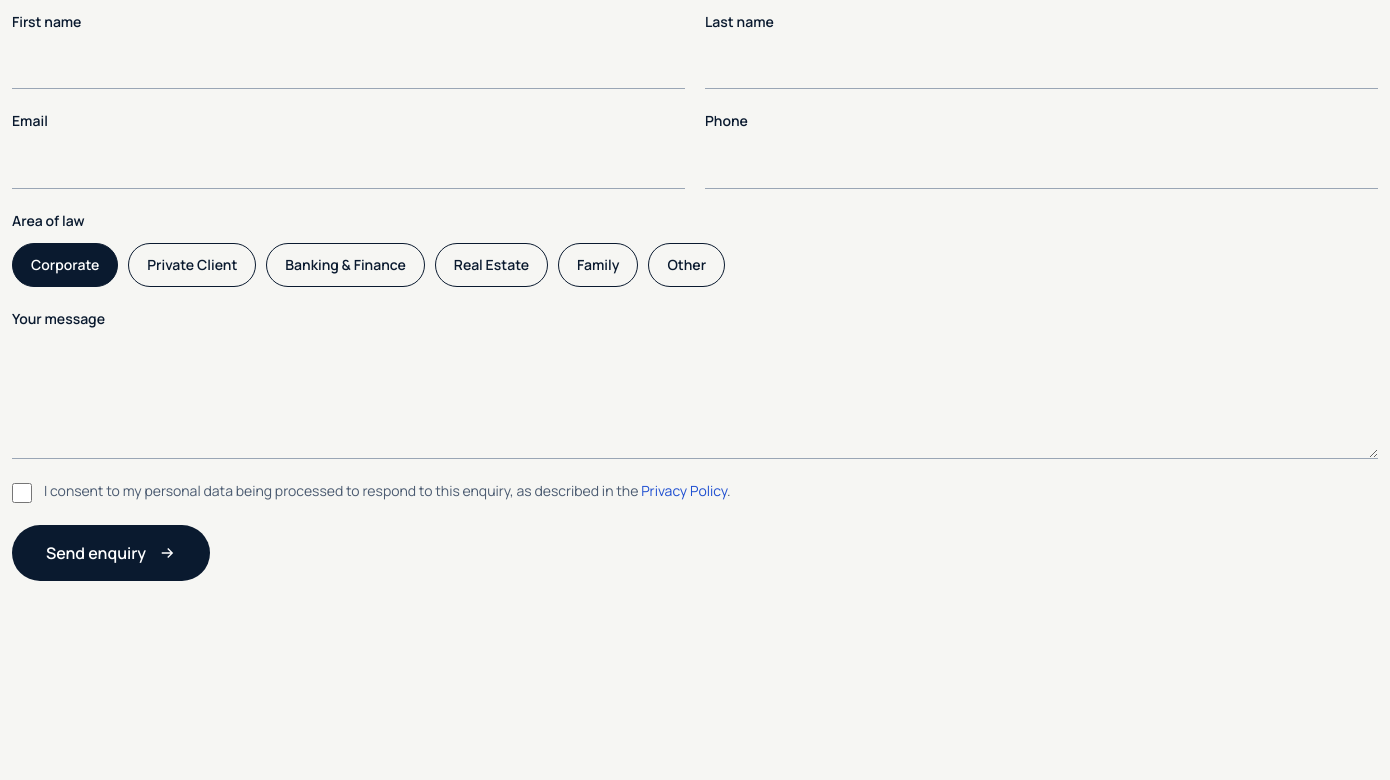
it: ContactForm › submits a valid enquiry and shows the success state
The image size is (1390, 780).
Type "Sofia" into the field labelled "First name" at (348, 65), box [12,40,685,89]
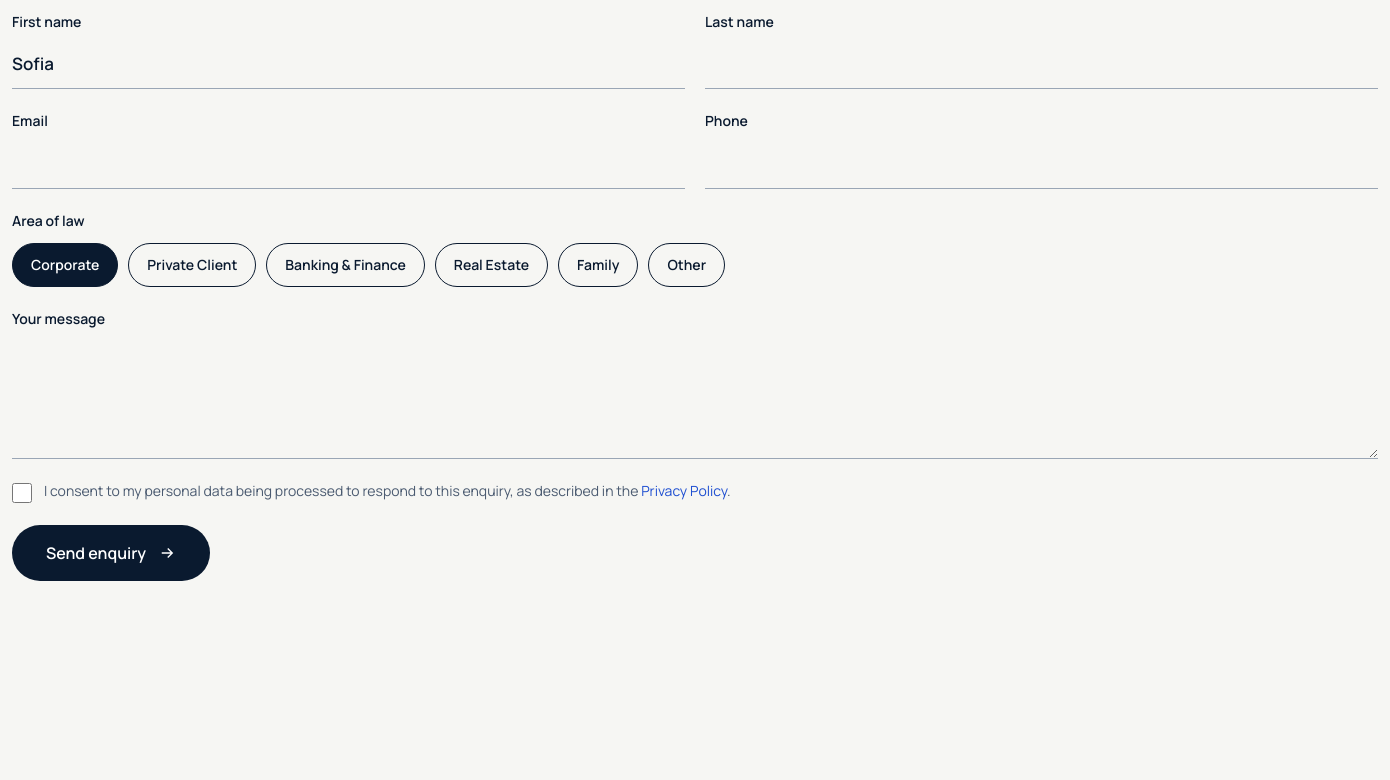
Type "Polykarpou" into the field labelled "Last name" at (1042, 65), box [705,40,1378,89]
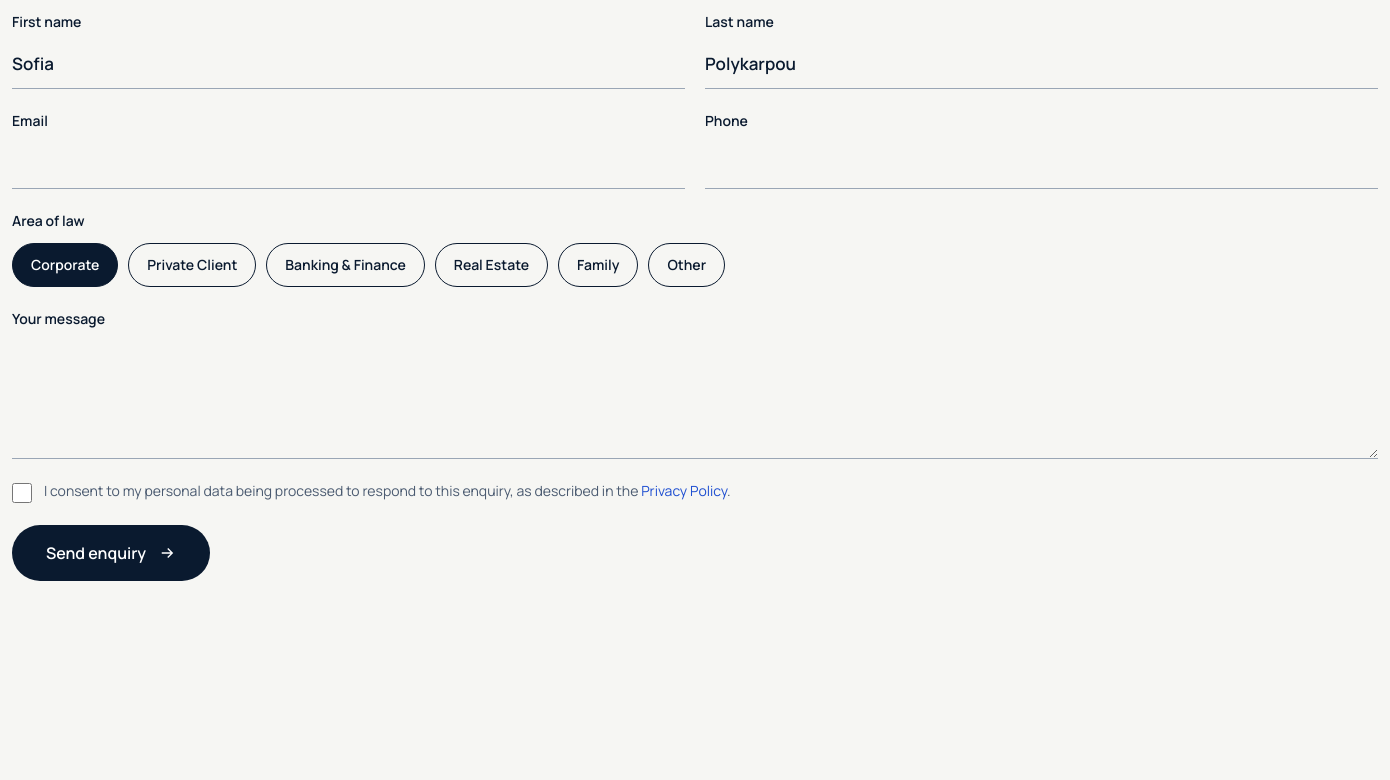
Type "sofia@example.com" into the field labelled "Email" at (348, 164), box [12,139,685,189]
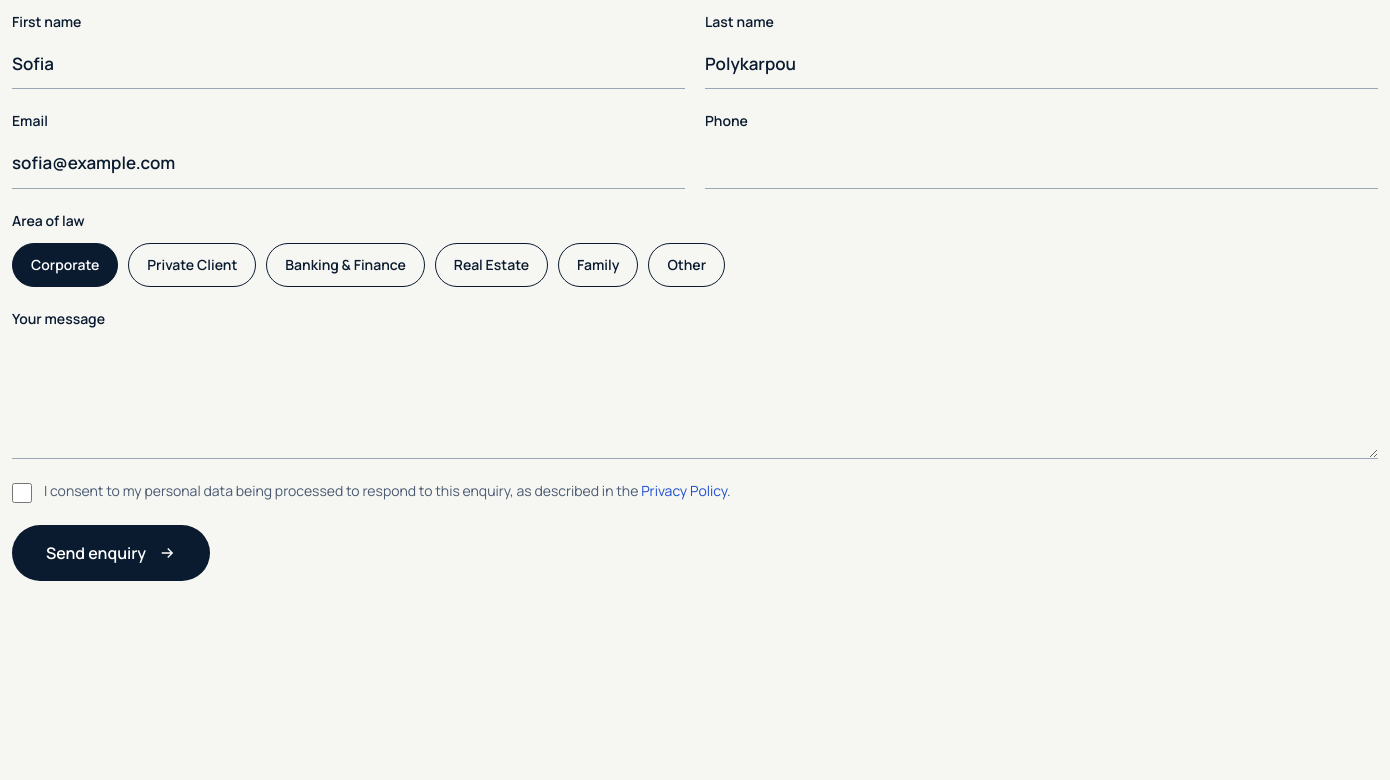
Type "Please advise on a company." into the text box labelled "Your message" at (695, 398), box [12,337,1378,459]
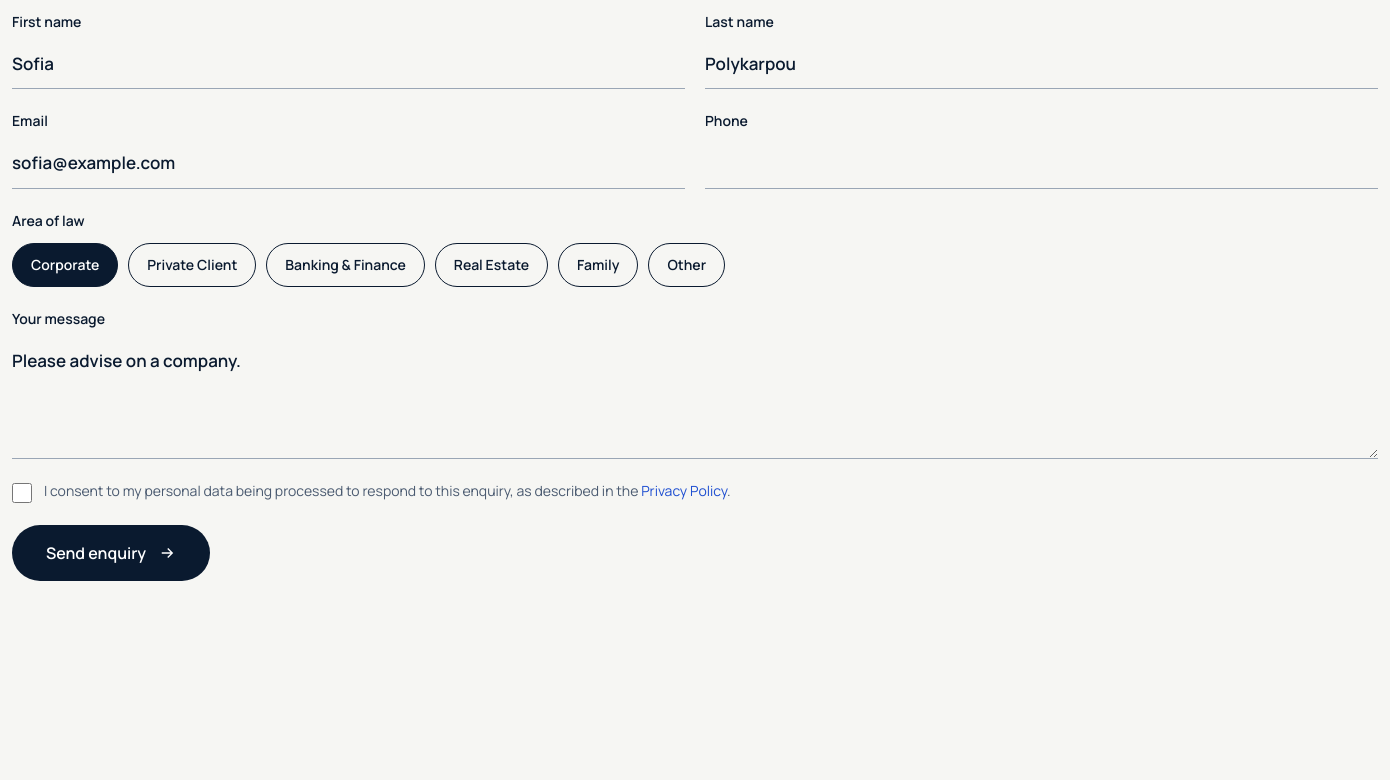
Click the checkbox at (22, 493), box [12,483,32,503]
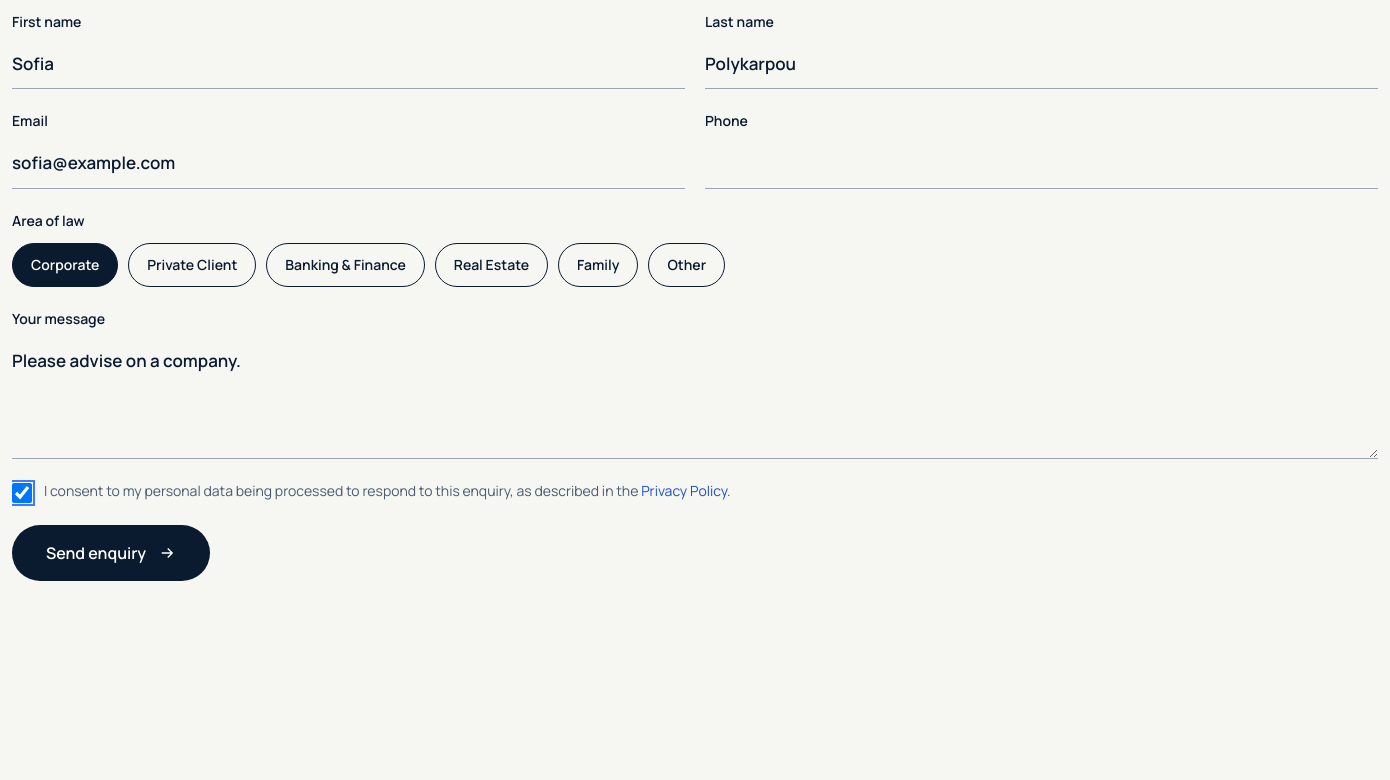
Click the button "Send enquiry" at (111, 553), box [12,525,210,581]
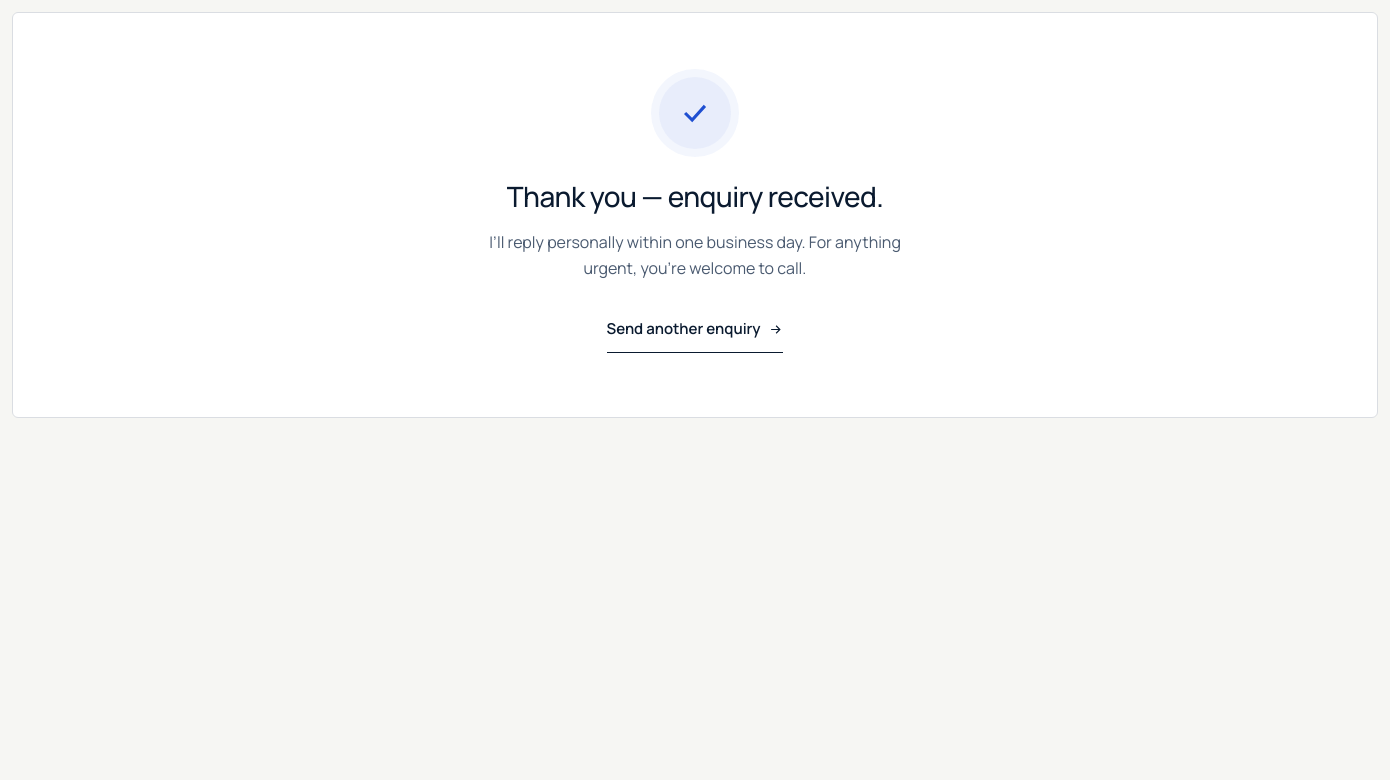
Check: the heading "Thank you — enquiry received." is shown, box [485,173,905,219]
